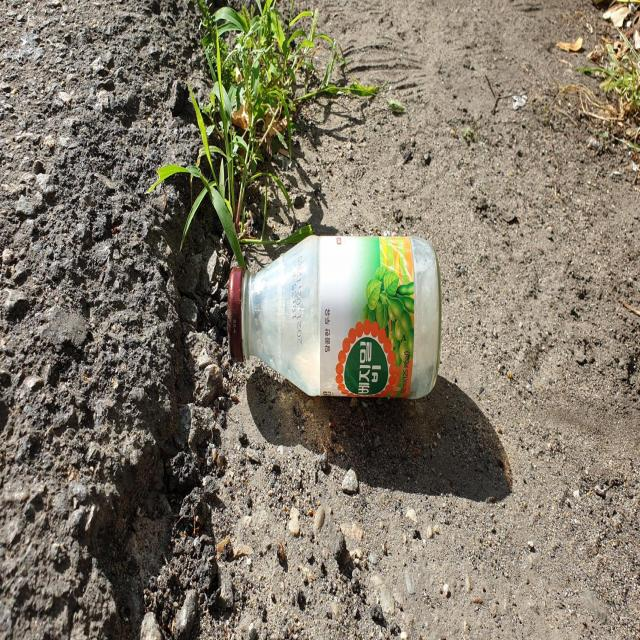glass: (227, 234, 442, 398)
